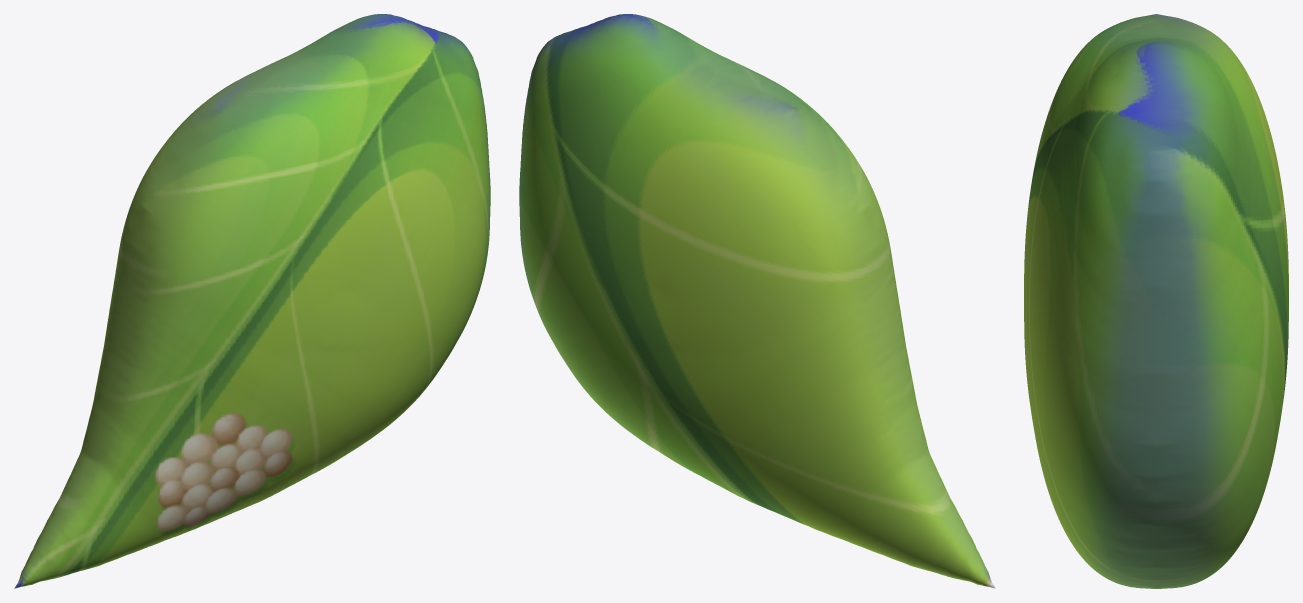
Rendered from telur.glb.
The picture shows the model from 3 angles, left to right: view 1: azimuth 30°, elevation 25°; view 2: azimuth 150°, elevation 25°; view 3: azimuth 270°, elevation 25°; orthographic projection. The views are drawn at different scales.
Parts seen in each view (by area): view 1: Object_5; view 2: Object_5; view 3: Object_5.
Boxes of the visible parts, box(x1,y1,x2,y2) form: Object_5: box(14, 14, 490, 588); Object_5: box(519, 14, 995, 588); Object_5: box(1024, 14, 1288, 588).
Size of the model in its own units: 0.3457 by 0.342 by 0.1252.
1 material, 1 textured.
